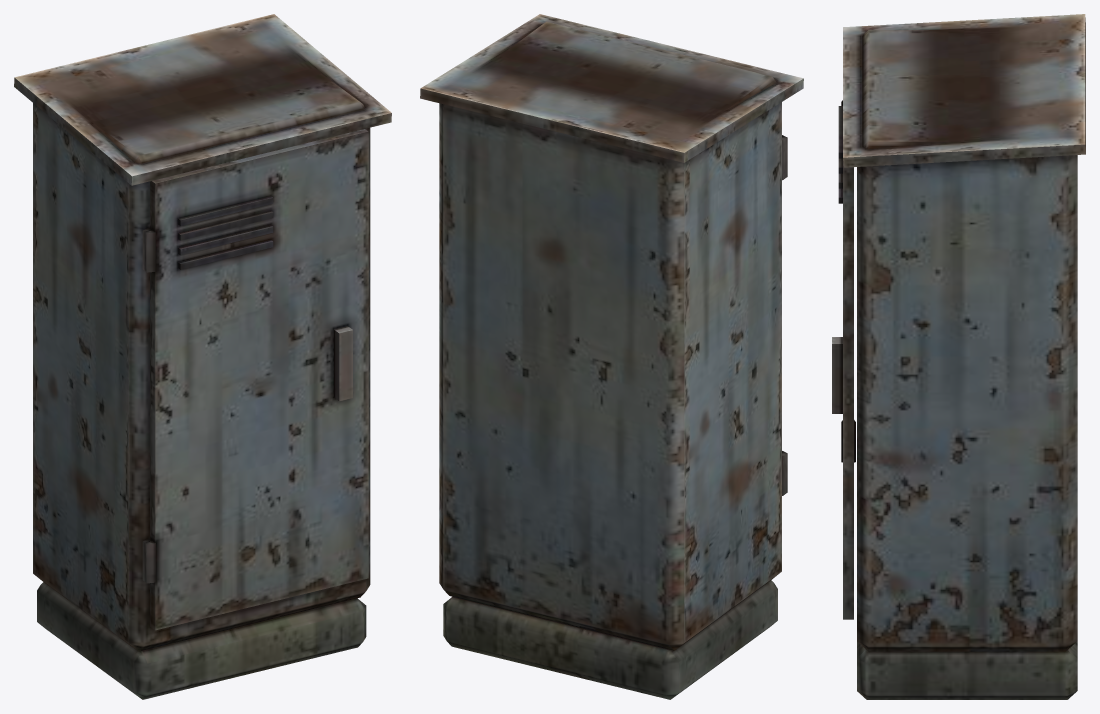
File: quadro.glb
3 views of the same model, side by side, from view 1: azimuth 30°, elevation 25°; view 2: azimuth 150°, elevation 25°; view 3: azimuth 270°, elevation 25° (orthographic). The views are drawn at different scales.
Parts seen in each view (by area): view 1: quadro; view 2: quadro; view 3: quadro.
Boxes of the visible parts, box(x1,y1,x2,y2) form: quadro: box(14, 14, 391, 699); quadro: box(420, 14, 803, 699); quadro: box(832, 14, 1085, 699).
Size of the model in its own units: 0.56 by 1.13 by 0.4602.
Materials: 1 (1 with a texture image).
